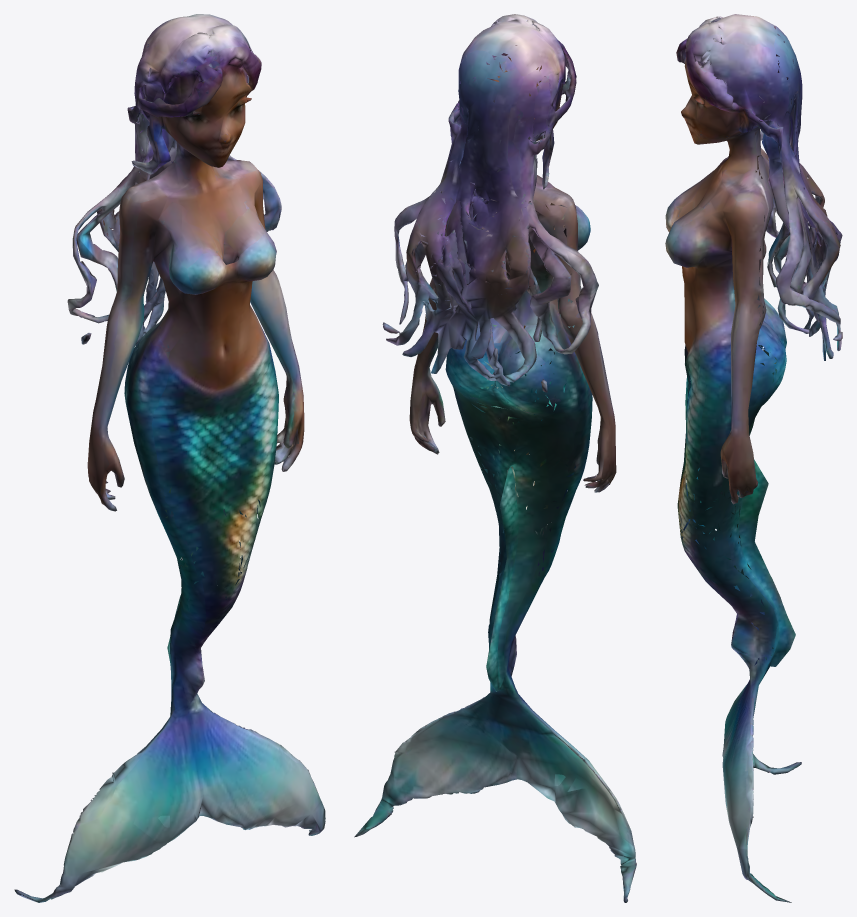
Rendered from peixe sereia especial para presentes acima da baleia.glb.
3 views of the same model, side by side, from view 1: azimuth 30°, elevation 25°; view 2: azimuth 150°, elevation 25°; view 3: azimuth 270°, elevation 25° (orthographic). The views are drawn at different scales.
Visible parts, largest first — view 1: Model No-15_0; view 2: Model No-15_0; view 3: Model No-15_0.
Part boxes in pixels (bbox=[...]): Model No-15_0: bbox=[14, 14, 325, 902]; Model No-15_0: bbox=[354, 14, 636, 902]; Model No-15_0: bbox=[665, 14, 842, 902].
Bounding box in the file's own units: 1.03 × 2.94 × 0.576.
1 material, 1 textured.
